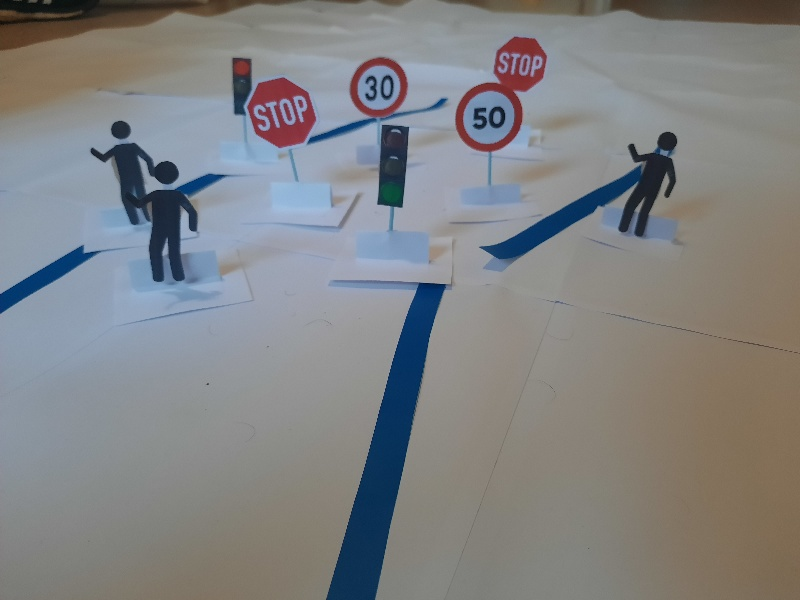Green: (374, 121, 409, 210)
Limit 30: (349, 54, 409, 119)
Limit 50: (452, 81, 526, 154)
Person: (129, 162, 201, 284), (616, 126, 680, 242), (87, 122, 155, 228)
Red: (228, 53, 252, 115)
Stop: (244, 76, 320, 153), (493, 33, 549, 93)
